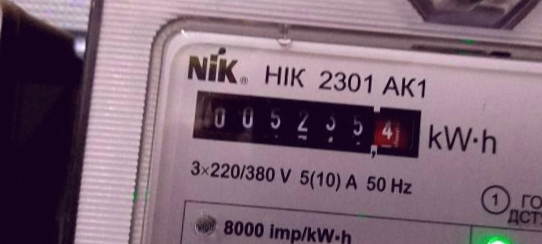0: (211, 103, 229, 130), (240, 103, 256, 129)
2: (295, 106, 311, 132)
3: (323, 106, 339, 132)
4: (380, 114, 396, 141)
5: (350, 109, 367, 137), (267, 104, 284, 131)
screen: (182, 80, 435, 166)
